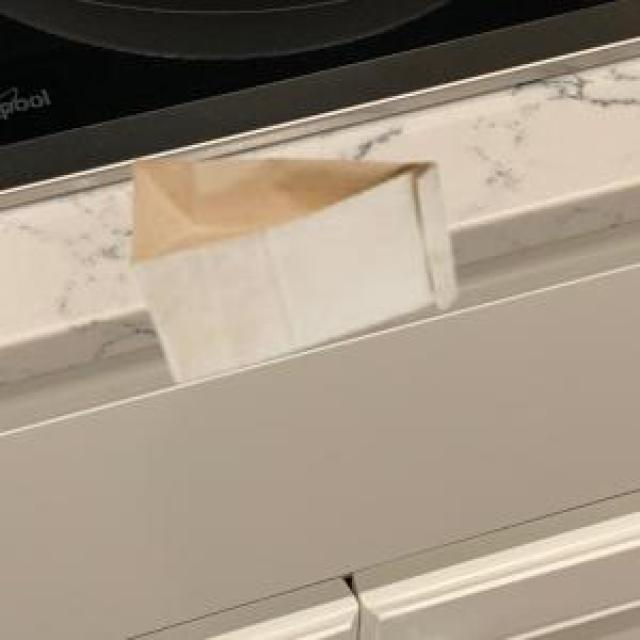paper: (128, 154, 452, 378)
